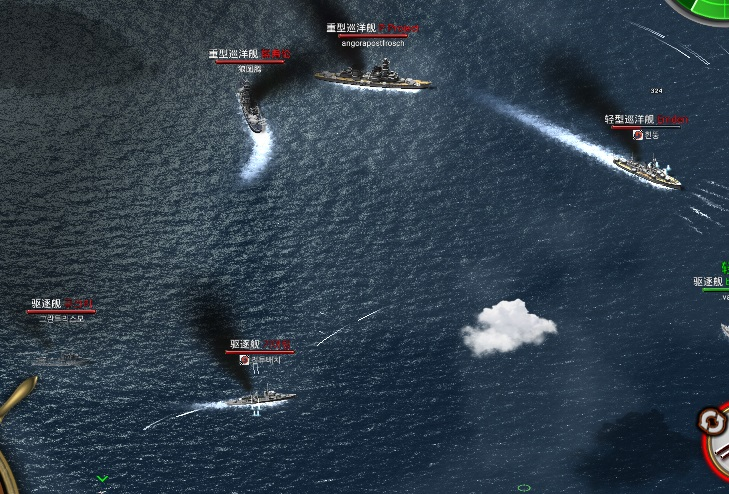ship: (314, 61, 435, 93), (611, 153, 682, 192), (222, 385, 295, 414), (234, 82, 269, 135), (21, 344, 93, 368)
